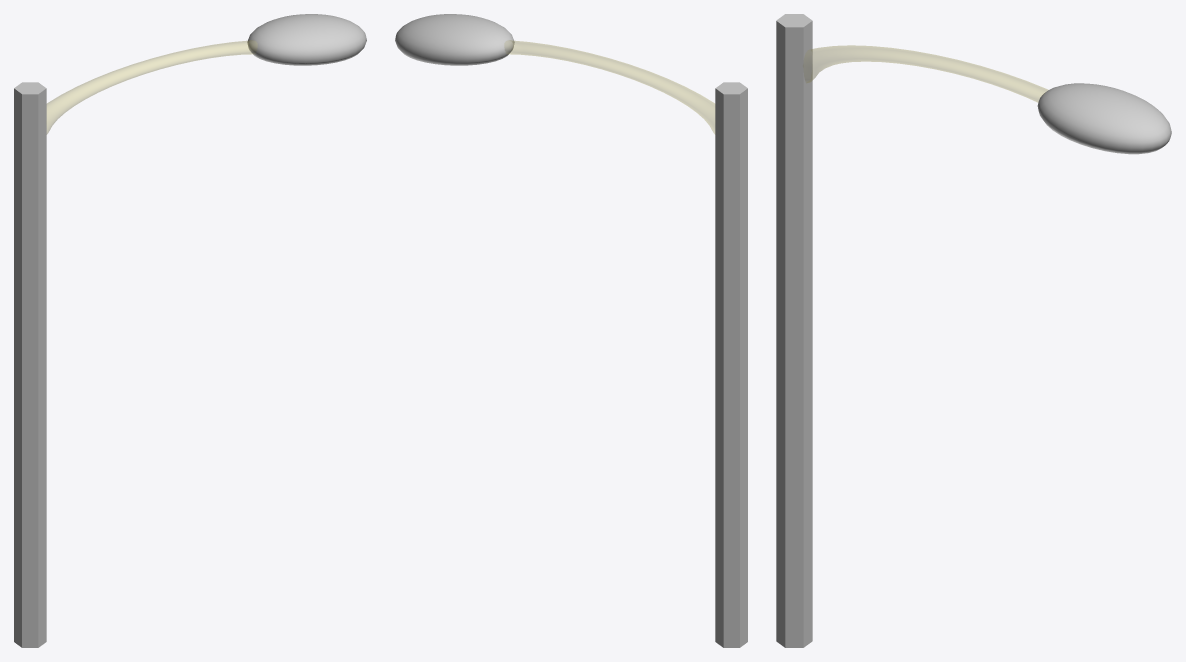
The model's file is street_light_pole.obj.
3 views of the same model, side by side, from view 1: azimuth 30°, elevation 25°; view 2: azimuth 150°, elevation 25°; view 3: azimuth 330°, elevation 25° (orthographic). The views are drawn at different scales.
Visible parts, largest first — view 1: Pole_Cylinder, LightPart_Sphere, Torus.001; view 2: Pole_Cylinder, LightPart_Sphere, Torus.001; view 3: Pole_Cylinder, LightPart_Sphere, Torus.001.
Boxes of the visible parts, x1,y1,x2,y2 form: Pole_Cylinder: [14, 82, 46, 647]; LightPart_Sphere: [247, 14, 366, 65]; Torus.001: [46, 40, 256, 133]; Pole_Cylinder: [715, 82, 747, 647]; LightPart_Sphere: [395, 14, 514, 65]; Torus.001: [505, 40, 715, 133]; Pole_Cylinder: [776, 14, 812, 647]; LightPart_Sphere: [1037, 83, 1171, 154]; Torus.001: [803, 45, 1047, 102].
Bounding box in the file's own units: 6.33 × 9.72 × 1.4.
